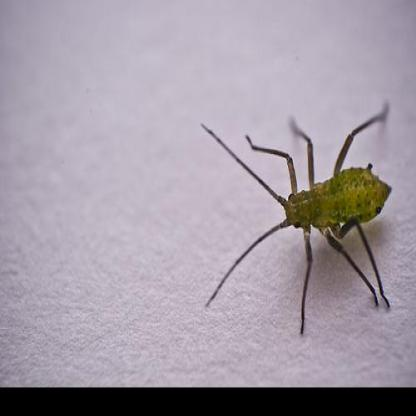aphid: (206, 94, 397, 326)
